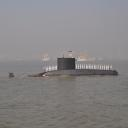submarine: (3, 58, 120, 77)
